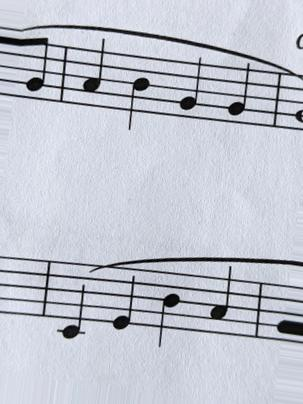note: (52, 257, 89, 342), (77, 35, 108, 113), (152, 269, 180, 353), (124, 50, 150, 135), (225, 59, 253, 136), (208, 263, 234, 340), (176, 54, 204, 125), (109, 265, 138, 332)
